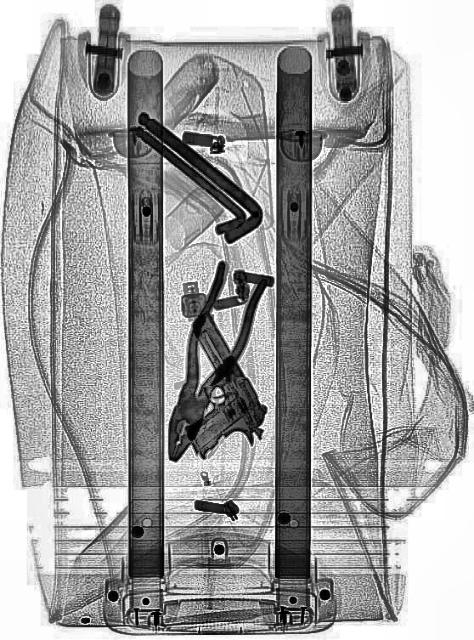Gun: (146, 305, 274, 479)
Pliers: (146, 252, 268, 473)
